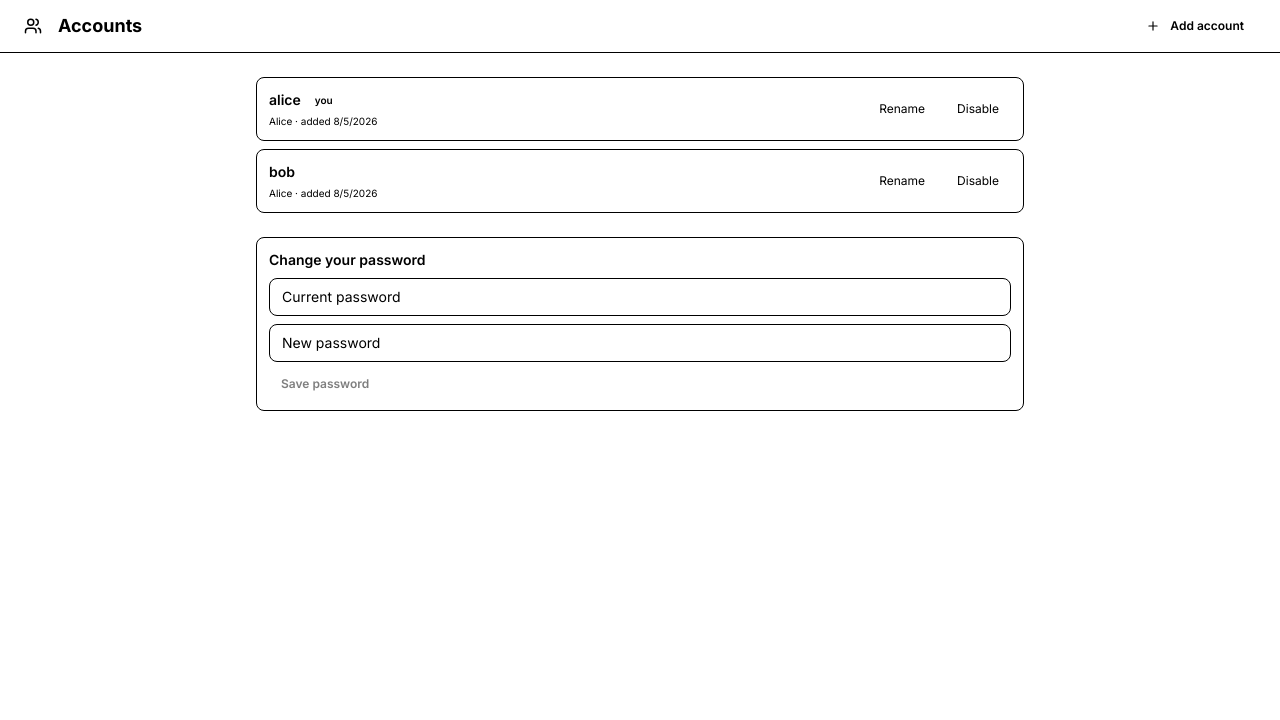
Scenario: disabling and enabling › lets the question be answered no
expect the text "bob" is shown: met, box [269, 162, 295, 182]
Click the button "Disable" in the row of "bob" at (978, 181), box [945, 167, 1011, 195]
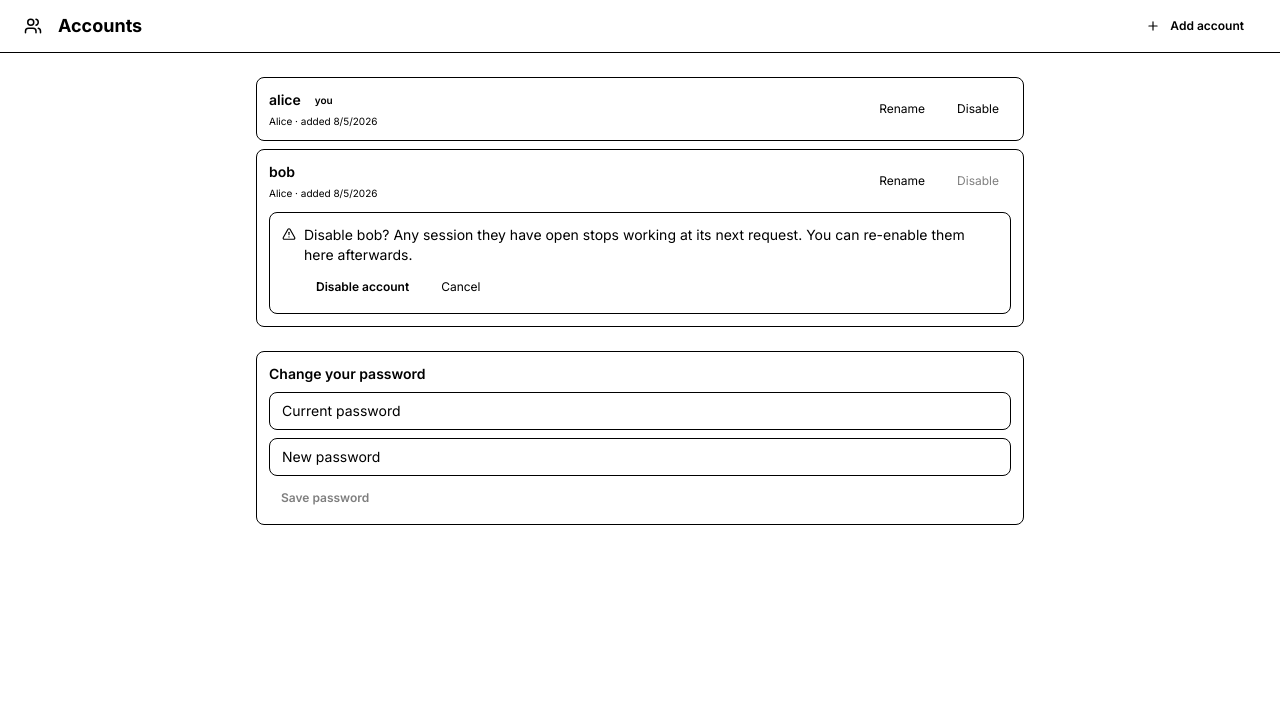
Click the button "Cancel" at (461, 287), box [429, 273, 492, 301]
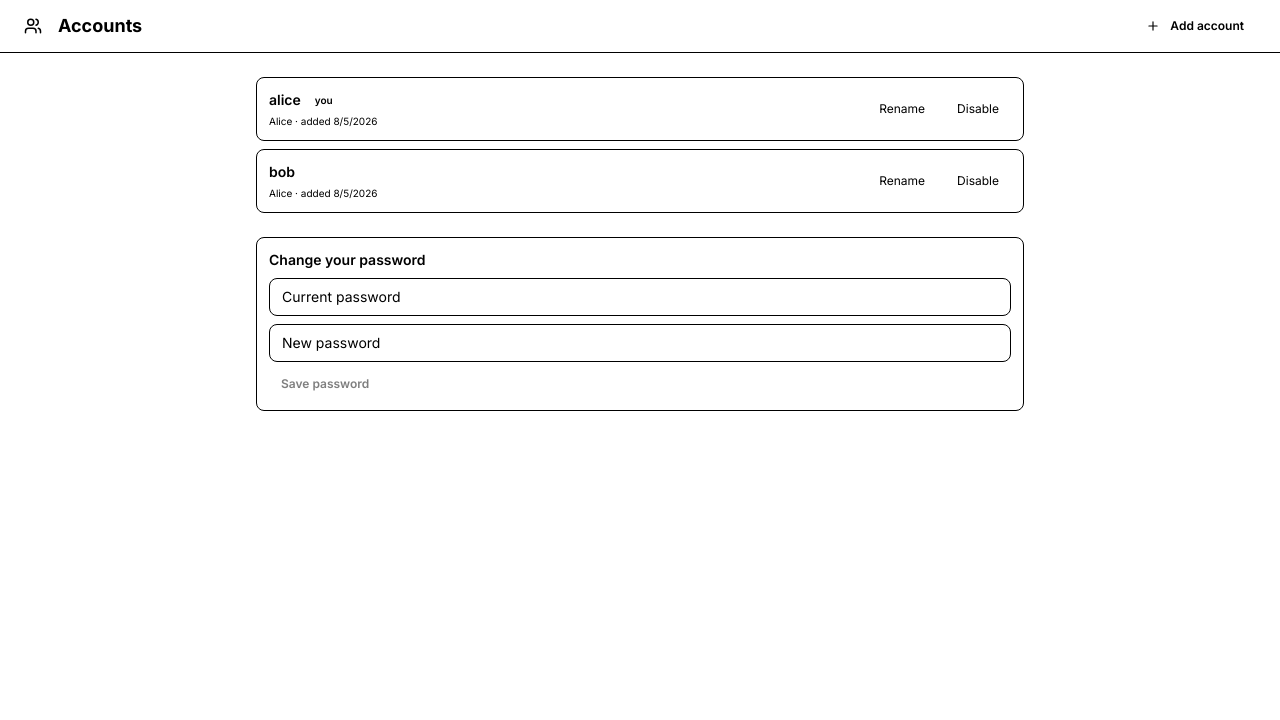
expect the dialog is gone: met
